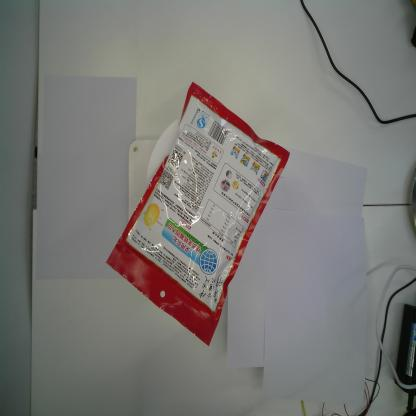Instant Drink: (105, 80, 290, 346)
